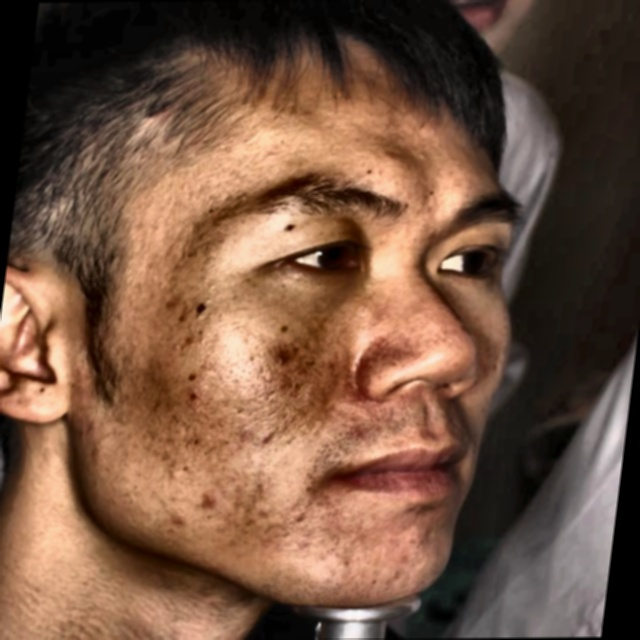comedone: (186, 487, 226, 520), (267, 350, 294, 373)
